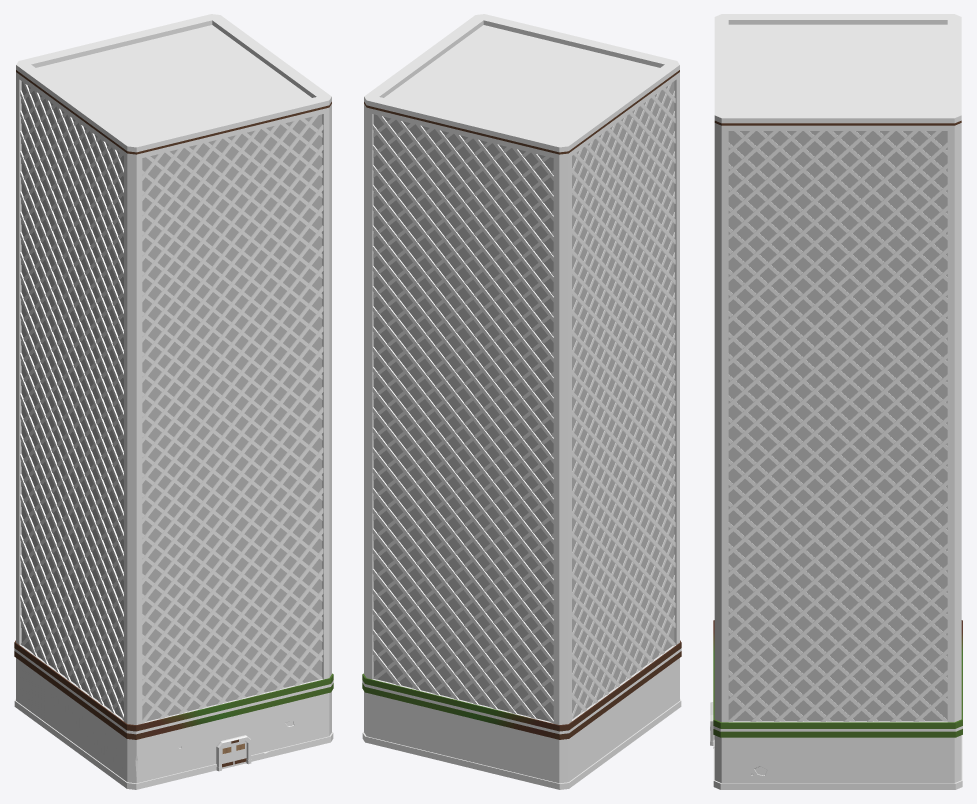
File: SM_BigBuilding_03.fbx
3 views of the same model, side by side, from view 1: azimuth 30°, elevation 25°; view 2: azimuth 150°, elevation 25°; view 3: azimuth 270°, elevation 25° (orthographic). The views are drawn at different scales.
Parts seen in each view (by area): view 1: SM_BigBuilding_03; view 2: SM_BigBuilding_03; view 3: SM_BigBuilding_03.
Part boxes in pixels (x1,y1,x2,y2): SM_BigBuilding_03: (14, 14, 333, 789); SM_BigBuilding_03: (362, 14, 681, 789); SM_BigBuilding_03: (710, 14, 962, 789).
Bounding box in the file's own units: 2021 × 6000 × 2048.
